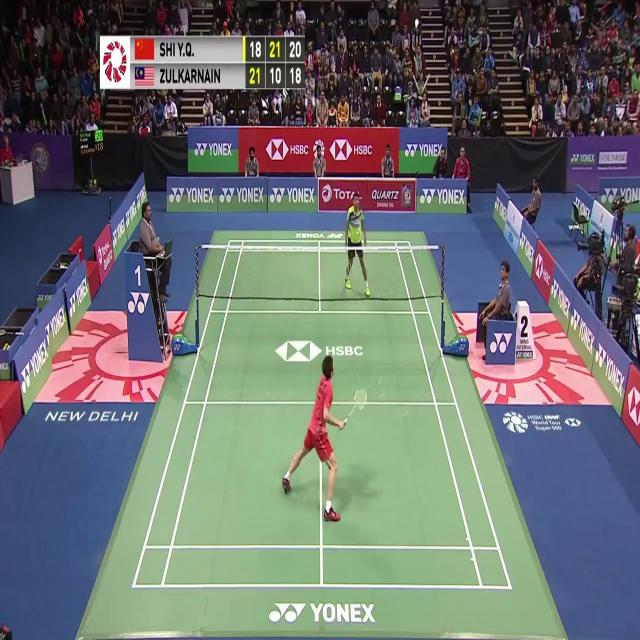Shuttlecock: (413, 19, 420, 31)
